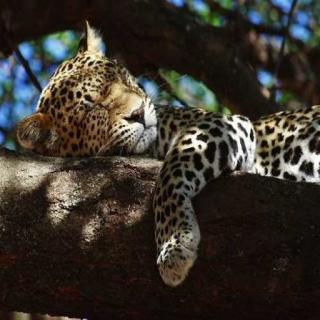Leopard: (13, 29, 255, 248)
